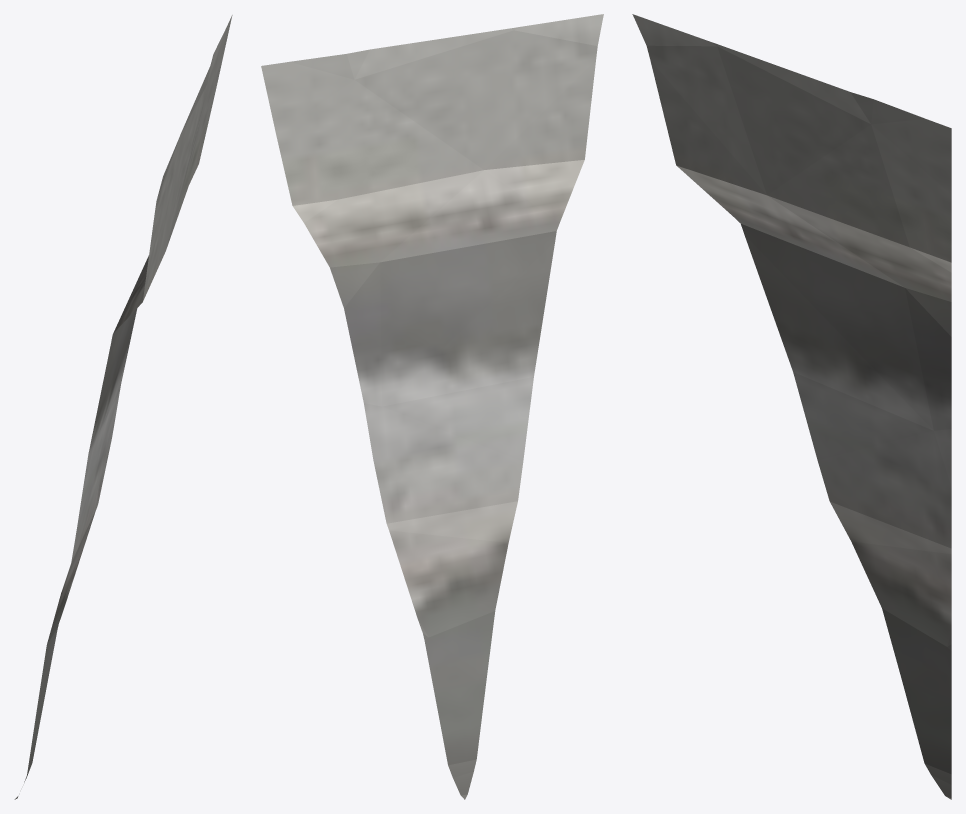
3 renders of one model, left to right at view 1: azimuth 30°, elevation 25°; view 2: azimuth 150°, elevation 25°; view 3: azimuth 270°, elevation 25°, orthographic. The views are drawn at different scales.
Size of the model in its own units: 0.1126 by 0.3611 by 0.1329.
Materials: 1 (1 with a texture image).
